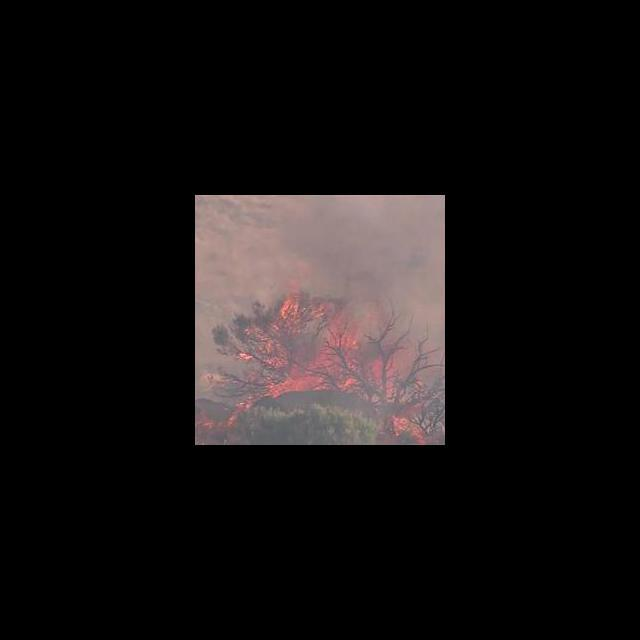Fire: (196, 269, 436, 444)
